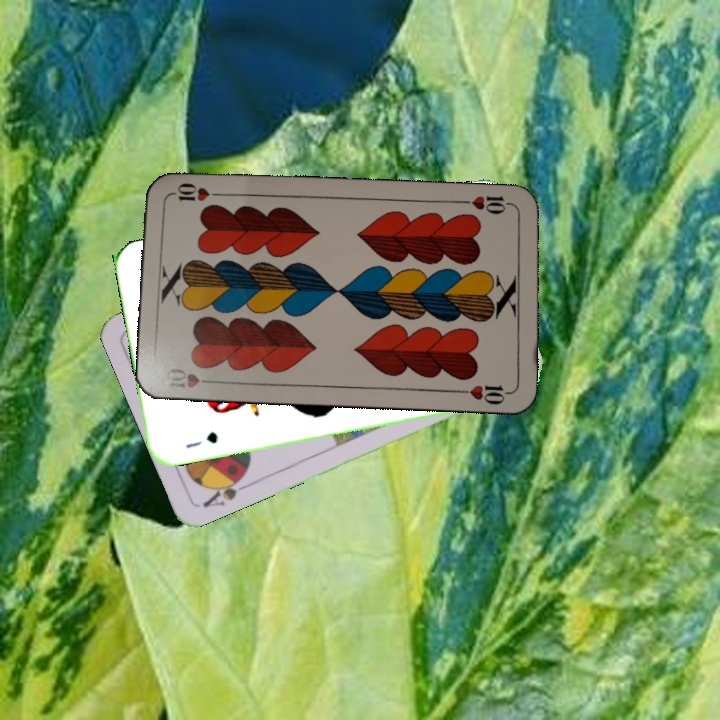GU: (182, 427, 220, 451)
H10: (161, 364, 220, 391), (458, 192, 518, 217)
SA: (198, 469, 254, 510)
